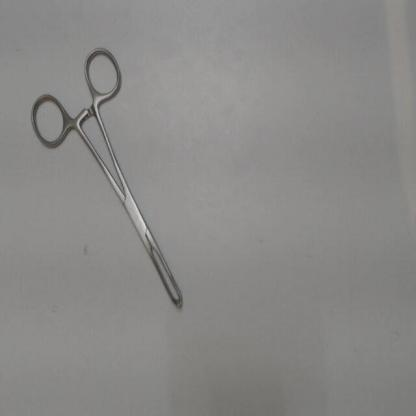Allis Tissue Forceps: (23, 39, 194, 318)
